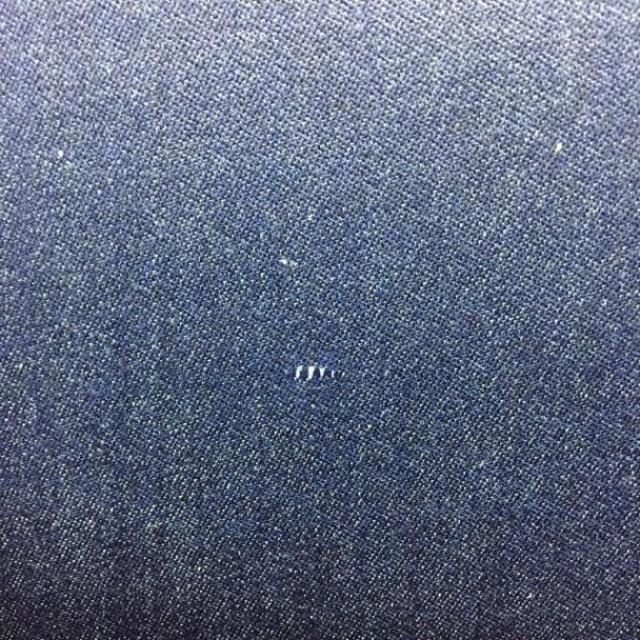Knot: (295, 364, 346, 382)
